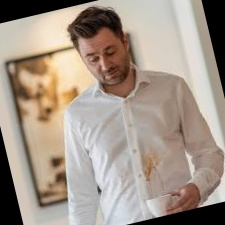coffee: (139, 151, 165, 183)
